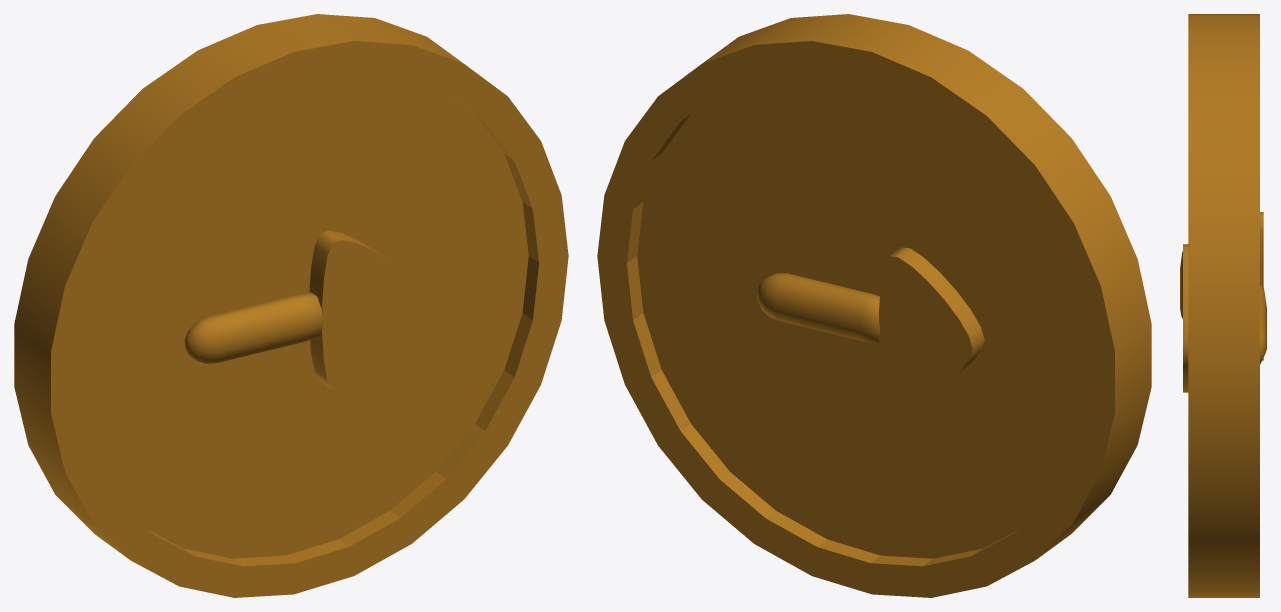
File: coin_arrow.FBX
3 views of the same model, side by side, from view 1: azimuth 30°, elevation 25°; view 2: azimuth 150°, elevation 25°; view 3: azimuth 270°, elevation 25° (orthographic). The views are drawn at different scales.
Visible parts, largest first — view 1: Cylinder001; view 2: Cylinder001; view 3: Cylinder001.
Boxes of the visible parts, x1,y1,x2,y2 form: Cylinder001: [14, 14, 568, 597]; Cylinder001: [597, 14, 1151, 597]; Cylinder001: [1180, 14, 1266, 597].
Bounding box in the file's own units: 63.1 × 63.21 × 9.4.
